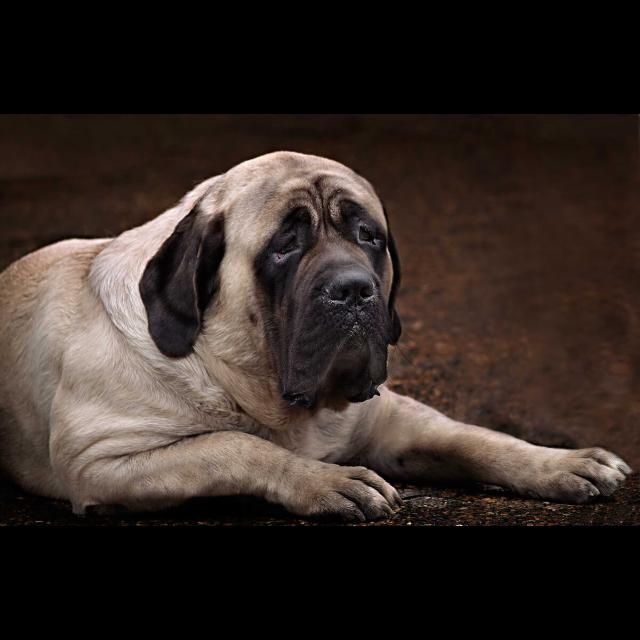mastiff: (2, 150, 634, 524)
